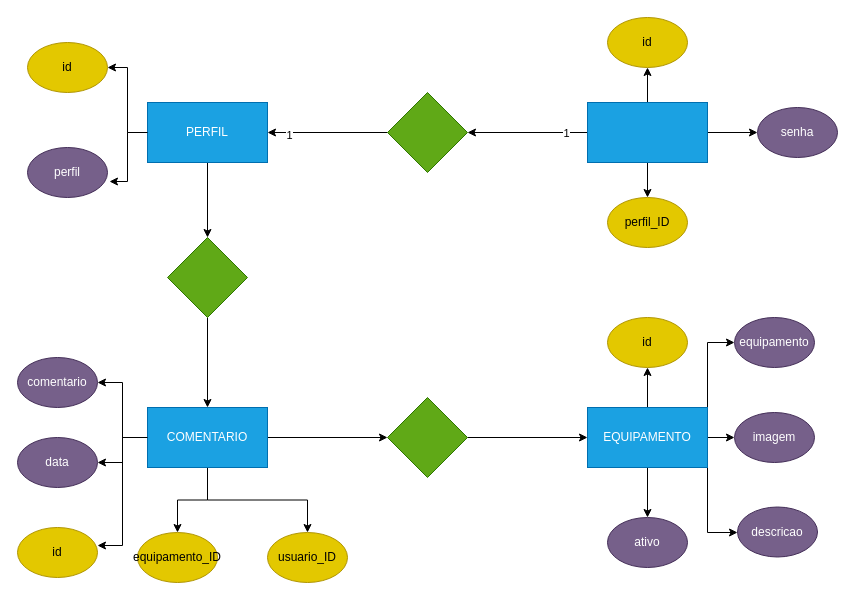
Some shapes in this 855 by 600 pixel diagram are drawn without their labels. The shapes that lost their labels are listed below. From the top down, each one's centre as x and y in pixels, then its label:
the point at 427,132: possui
the point at 647,132: USUARIO
the point at 207,277: cria comentario
the point at 427,437: recebe
